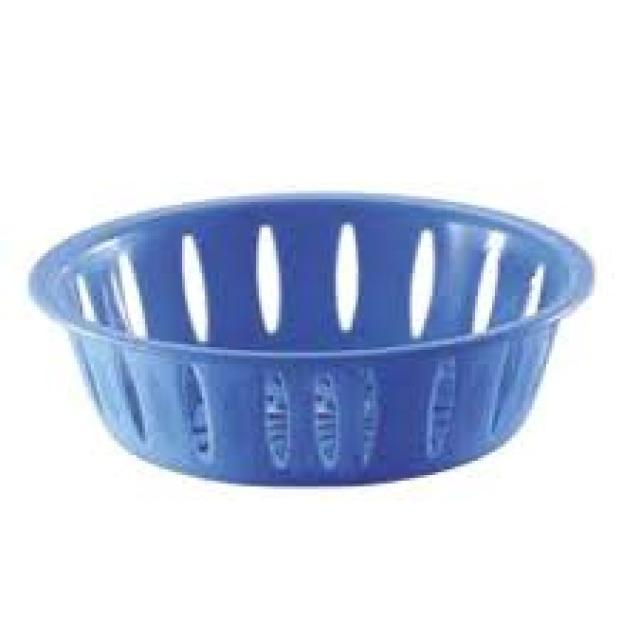basket: (34, 196, 594, 485)
